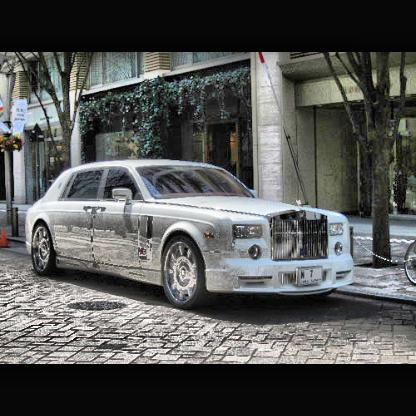Rolls-Royce Phantom Sedan 2012: (24, 157, 355, 311)
